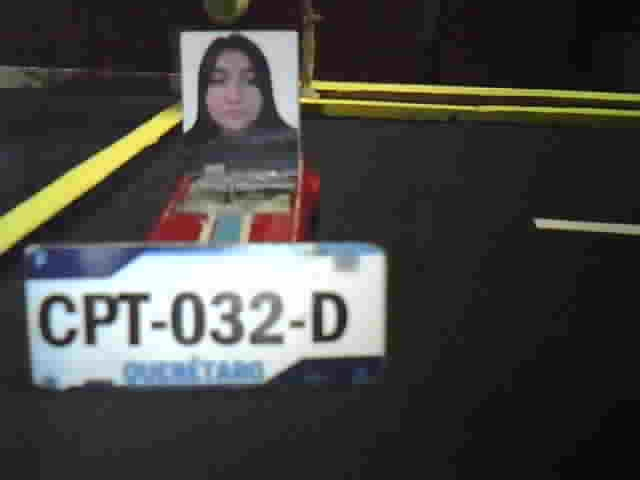PLACA: (19, 238, 390, 391)
ROSTRO: (183, 32, 300, 154)
